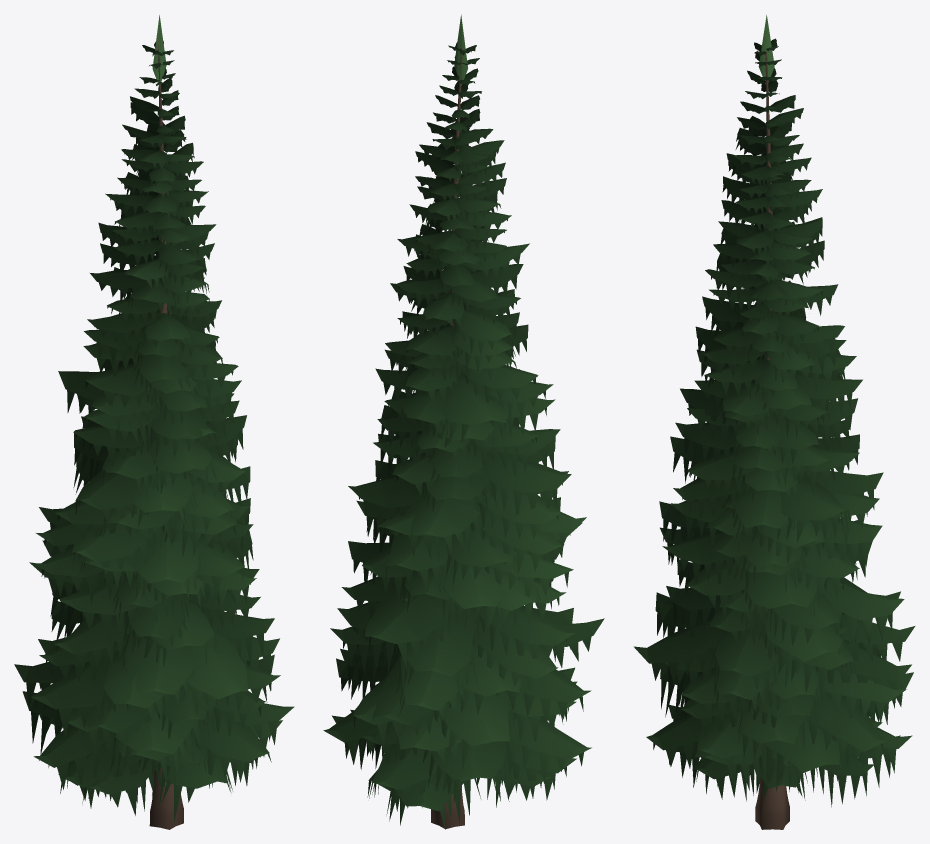
Rendered from spruce_a.glb.
3 views of the same model, side by side, from view 1: azimuth 30°, elevation 25°; view 2: azimuth 150°, elevation 25°; view 3: azimuth 270°, elevation 25° (orthographic).
Parts seen in each view (by area): view 1: LOD0; view 2: LOD0; view 3: LOD0.
Boxes of the visible parts, bbox=[...] form: LOD0: bbox=[14, 15, 294, 829]; LOD0: bbox=[323, 14, 604, 829]; LOD0: bbox=[633, 15, 915, 829].
Size of what is drawn, in the model's own units: 6.41 by 19.85 by 6.31.
